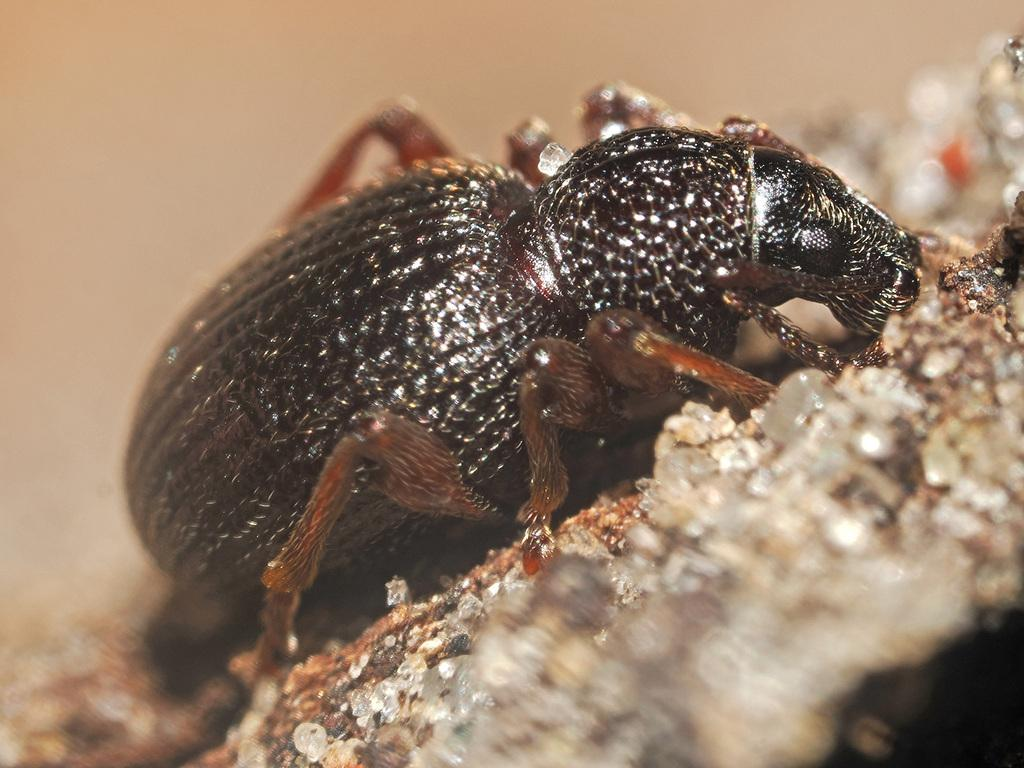weevils: (52, 26, 1024, 768)
